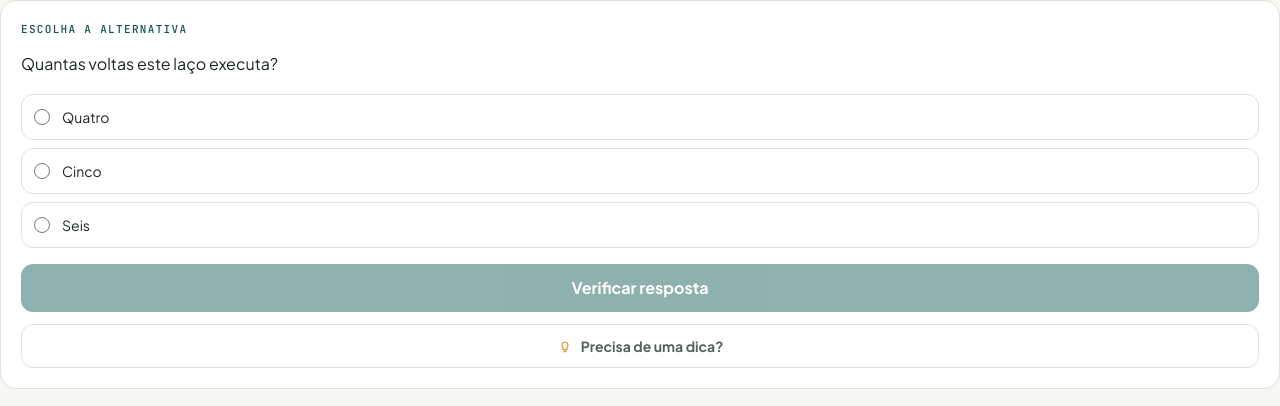
Scenario: resposta certa › confirma e explica o porquê
Step 1. Click the radio button labelled "Cinco" → (42, 170), box [34,162,50,178]
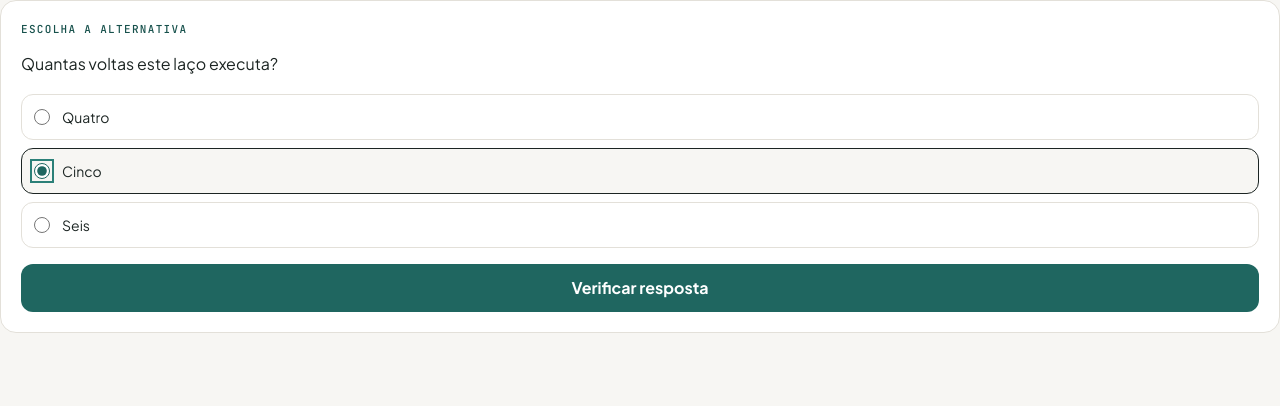
Step 2. Click the button "Verificar resposta" → (640, 288), box [21,264,1259,312]
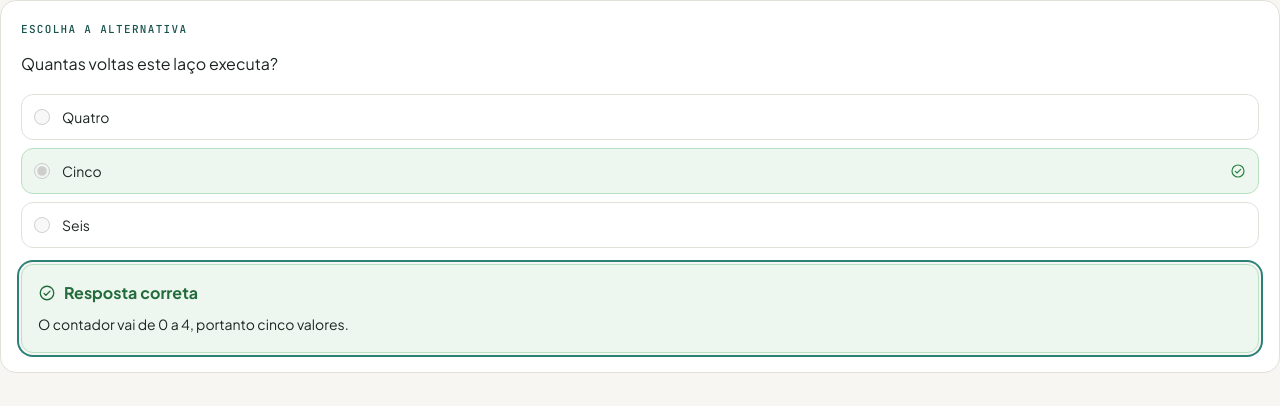
Expected: the text "Resposta correta" is shown, [38,282,198,302]
Expected: the text "O contador vai de 0 a 4, portanto cinco valores." is shown, [38,314,349,332]
